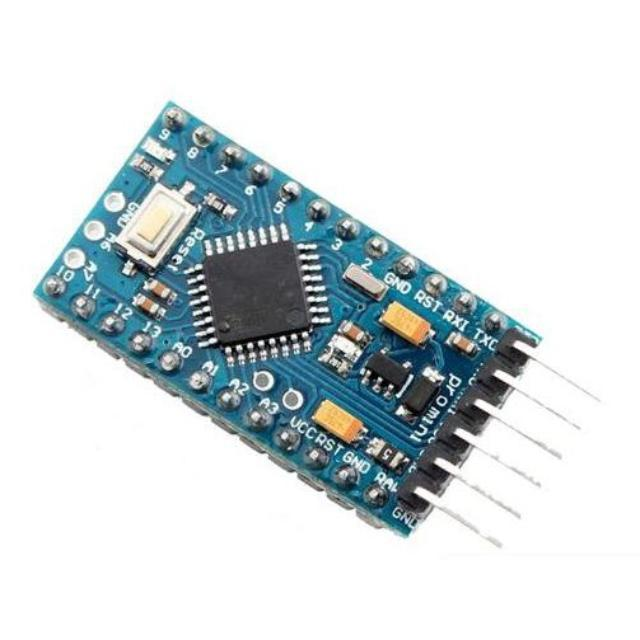Arduino-ProMini: (37, 103, 541, 537)
